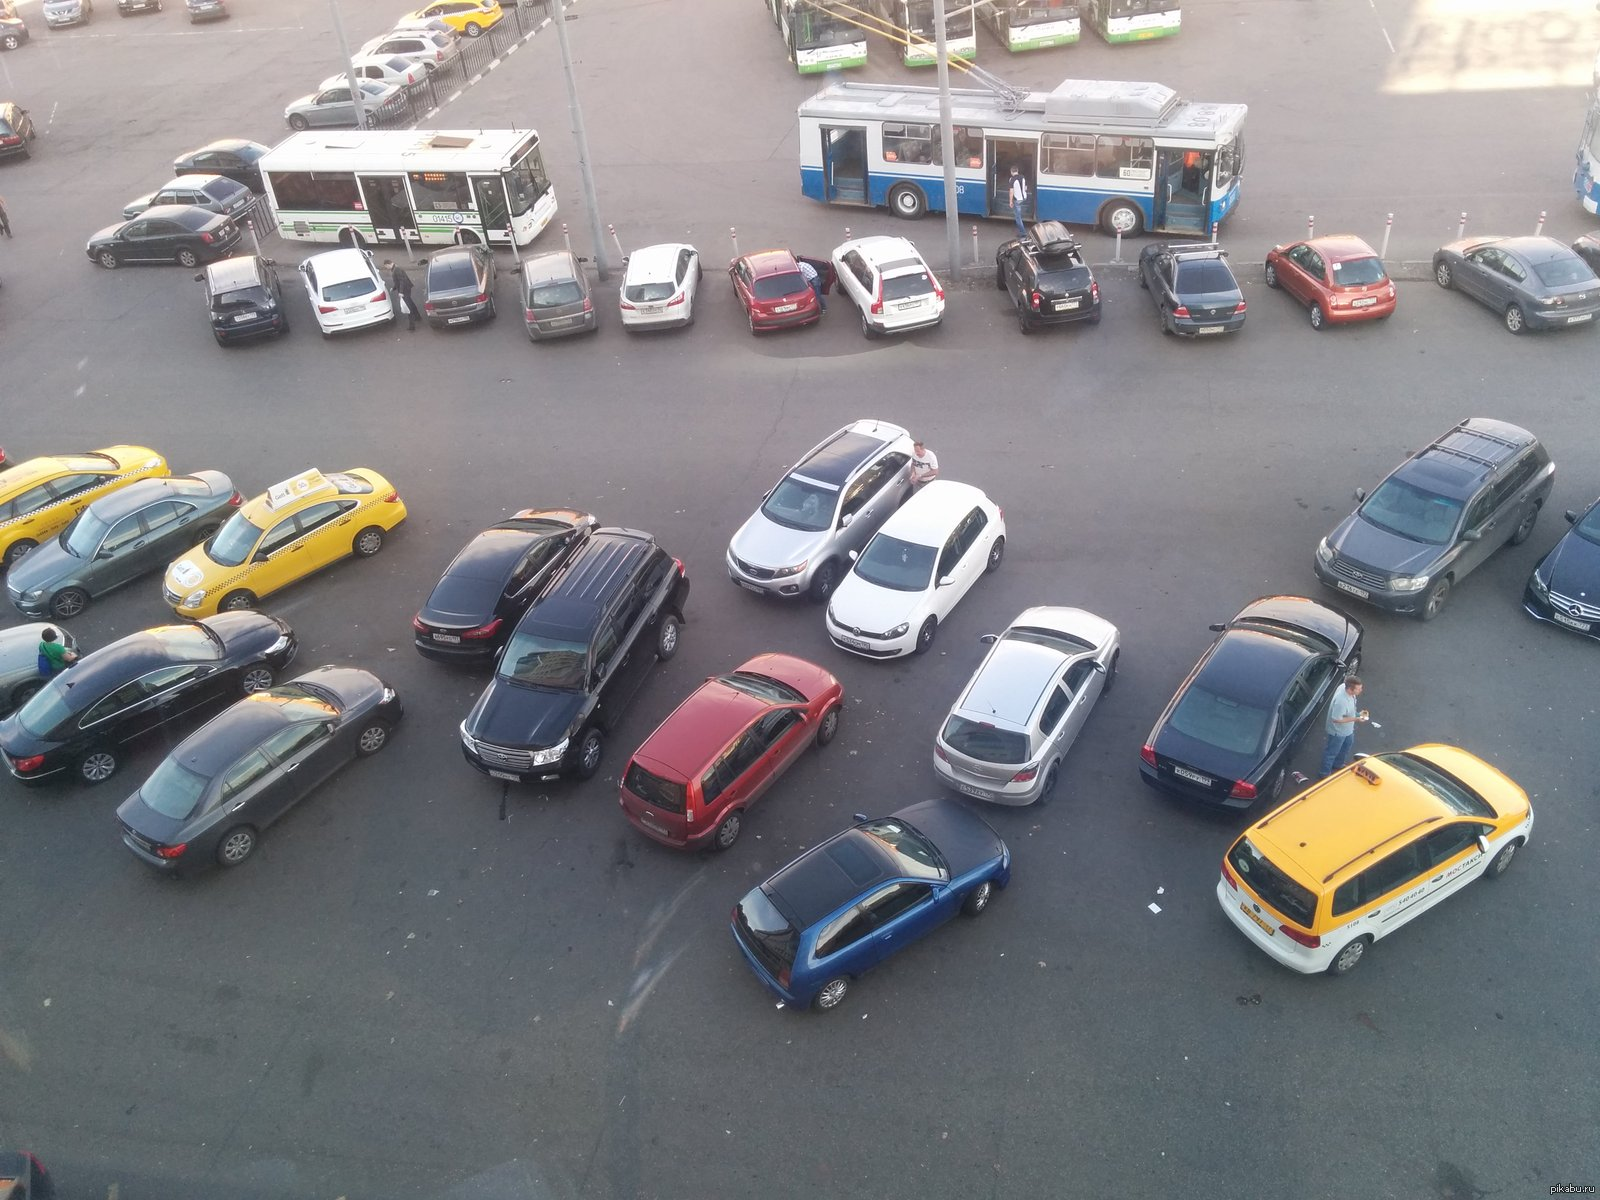Car: (797, 64, 1249, 238), (1216, 742, 1534, 976), (113, 666, 402, 874), (731, 798, 1012, 1011), (459, 526, 690, 783), (0, 609, 299, 785), (1138, 594, 1364, 816), (1313, 416, 1556, 621), (619, 652, 847, 852), (932, 605, 1123, 807), (161, 468, 409, 620), (724, 418, 930, 601), (4, 469, 247, 623), (258, 129, 558, 248), (824, 479, 1007, 661), (412, 508, 600, 664), (0, 444, 173, 567), (1432, 236, 1600, 334), (1264, 234, 1396, 330), (995, 221, 1102, 332), (831, 236, 946, 338), (1522, 495, 1600, 642), (1138, 238, 1247, 337), (86, 205, 242, 268), (728, 247, 837, 335), (299, 247, 394, 337), (194, 255, 287, 345), (510, 250, 598, 342), (763, 0, 868, 74), (620, 242, 703, 334), (0, 621, 79, 717), (869, 0, 976, 68), (418, 243, 496, 329), (285, 77, 402, 131), (122, 174, 257, 221), (974, 0, 1081, 53), (173, 139, 271, 192), (350, 28, 457, 73), (1080, 0, 1182, 45), (1574, 50, 1600, 218), (317, 53, 427, 92), (398, 0, 504, 37), (360, 19, 461, 52), (0, 1148, 55, 1200), (0, 100, 37, 163), (42, 0, 92, 30), (1574, 229, 1600, 275), (0, 18, 29, 50), (185, 0, 227, 23), (115, 0, 163, 16), (0, 445, 15, 471), (0, 0, 18, 19), (498, 0, 517, 5)
